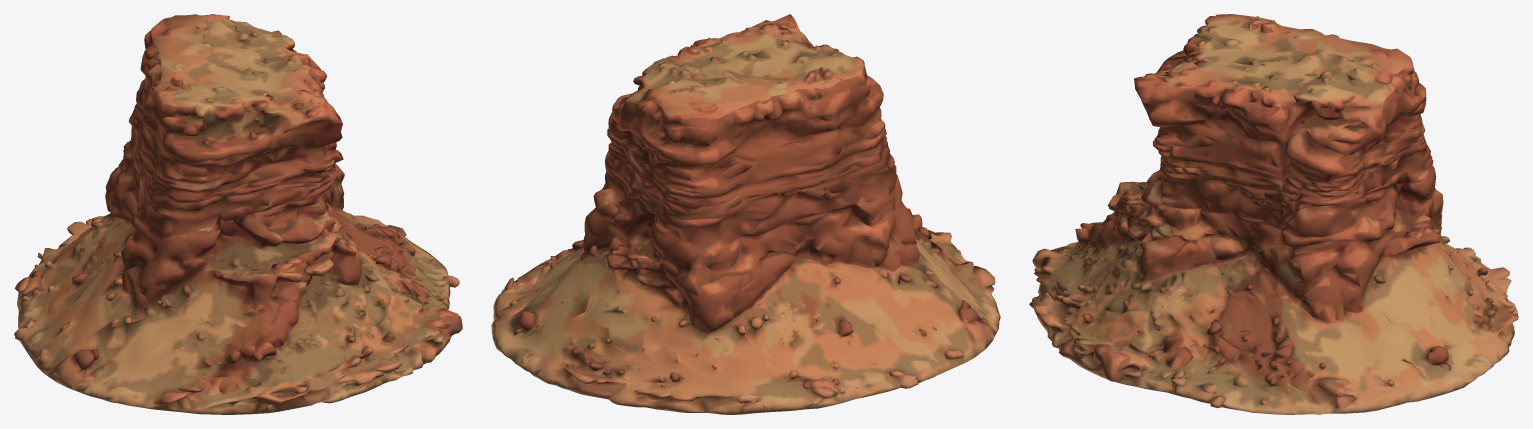
Rendered from MesaRock.fbx.
3 renders of one model, left to right at view 1: azimuth 30°, elevation 25°; view 2: azimuth 150°, elevation 25°; view 3: azimuth 270°, elevation 25°, orthographic. The views are drawn at different scales.
Visible parts, largest first — view 1: MesaRock; view 2: MesaRock; view 3: MesaRock.
Part boxes in pixels (x1,y1,x2,y2): MesaRock: [14, 14, 462, 414]; MesaRock: [491, 14, 1000, 414]; MesaRock: [1029, 14, 1518, 414].
Bounding box in the file's own units: 40.01 × 23.47 × 40.02.
Materials: 1 (1 with a texture image).
